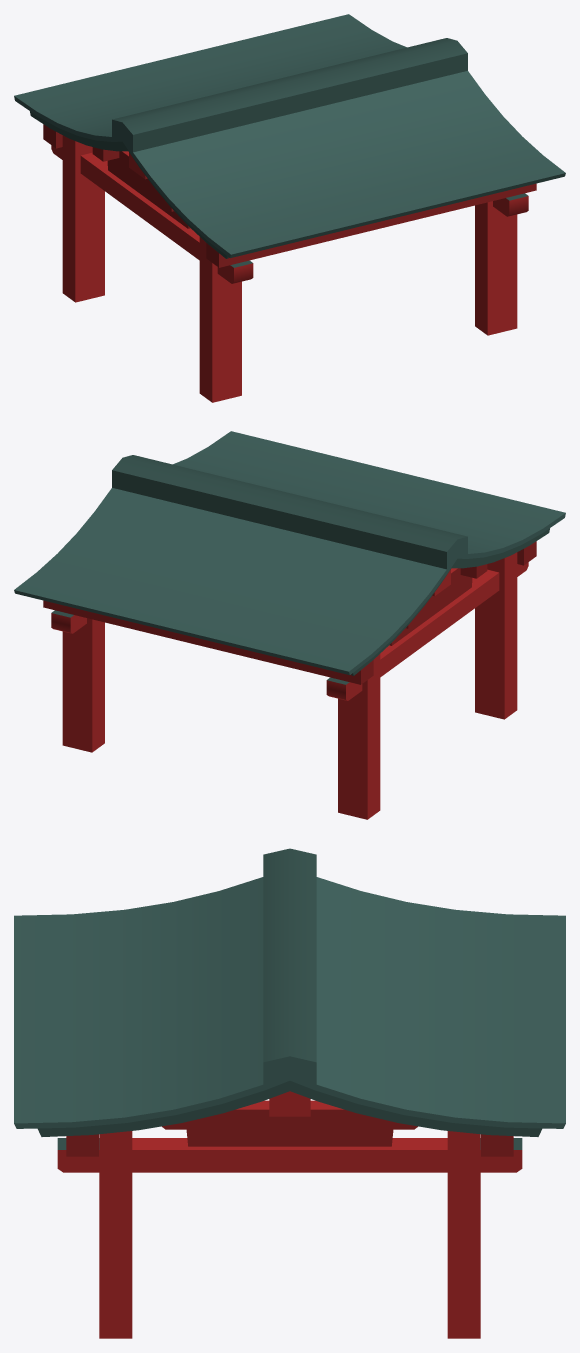
Rendered from Japan_Pagoda_Small.FBX.
The picture shows the model from 3 angles, top to bottom: view 1: azimuth 30°, elevation 25°; view 2: azimuth 150°, elevation 25°; view 3: azimuth 270°, elevation 25°; orthographic projection. The views are drawn at different scales.
Visible parts, largest first — view 1: Object024; view 2: Object024; view 3: Object024.
Part boxes in pixels (x1,y1,x2,y2): Object024: (14, 14, 565, 402); Object024: (14, 431, 565, 819); Object024: (14, 848, 565, 1338).
Bounding box in the file's own units: 552 × 361 × 620.
